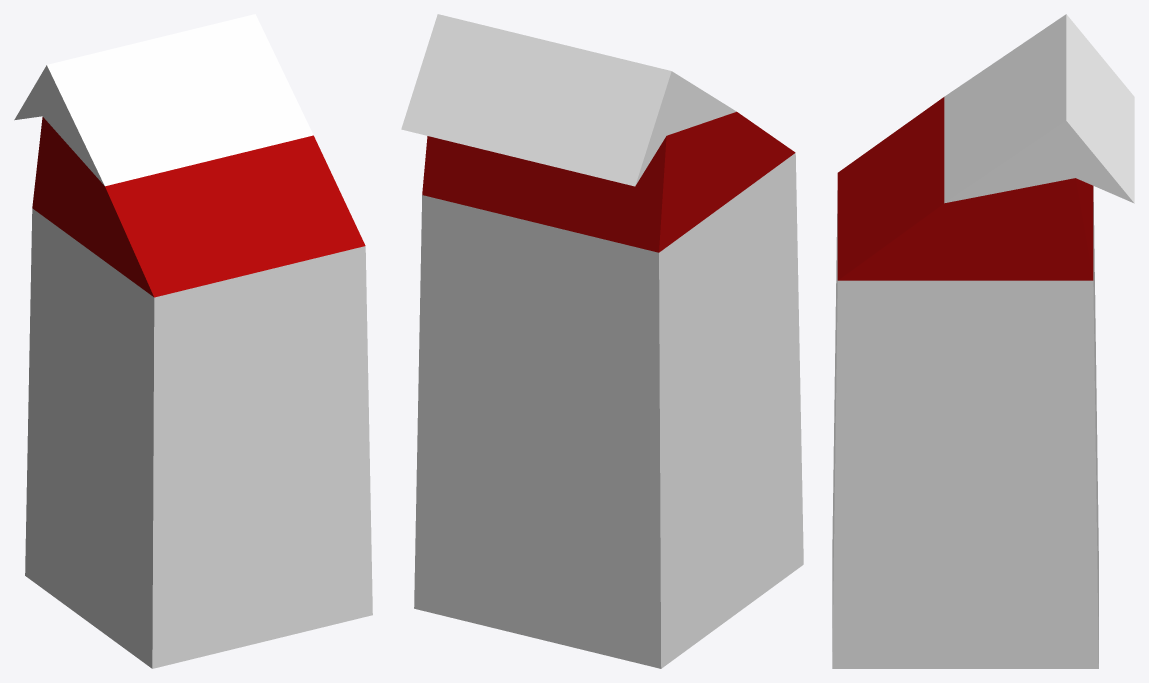
Rendered from Baking Powder.fbx.
The picture shows the model from 3 angles, left to right: view 1: azimuth 30°, elevation 25°; view 2: azimuth 150°, elevation 25°; view 3: azimuth 270°, elevation 25°; orthographic projection. The views are drawn at different scales.
Parts seen in each view (by area): view 1: Baking Powder; view 2: Baking Powder; view 3: Baking Powder.
Part boxes in pixels (<box>): Baking Powder: <box>14,14,372,668</box>; Baking Powder: <box>401,14,803,668</box>; Baking Powder: <box>832,14,1134,668</box>.
Size of the model in its own units: 22.42 by 25.43 by 50.6.
